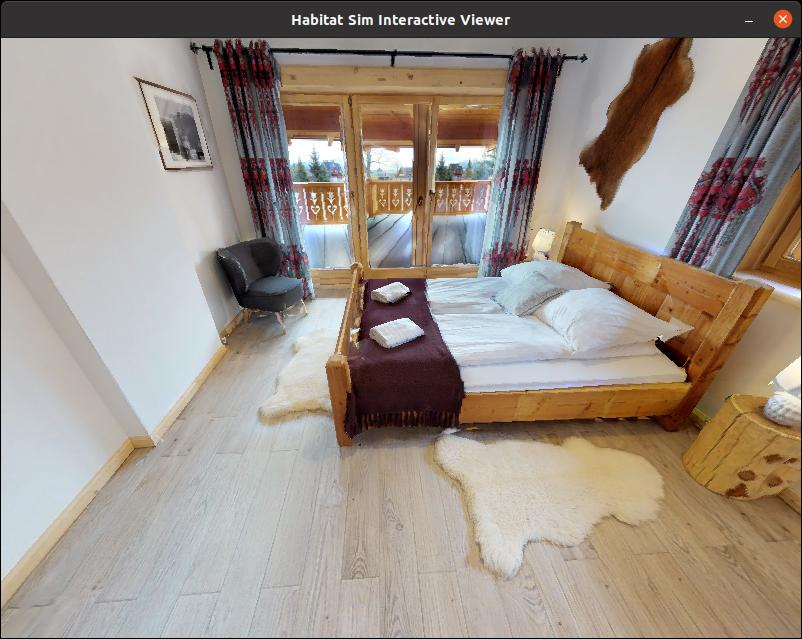bed: (319, 217, 758, 462)
sofa: (209, 225, 323, 336)
